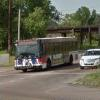Bus: (10, 34, 81, 77)
